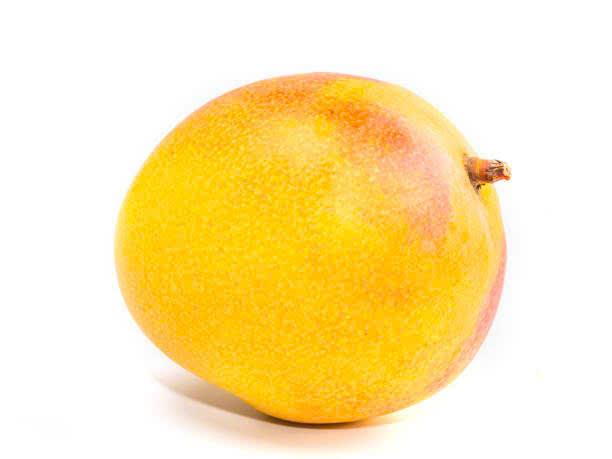mango: (100, 61, 495, 434)
